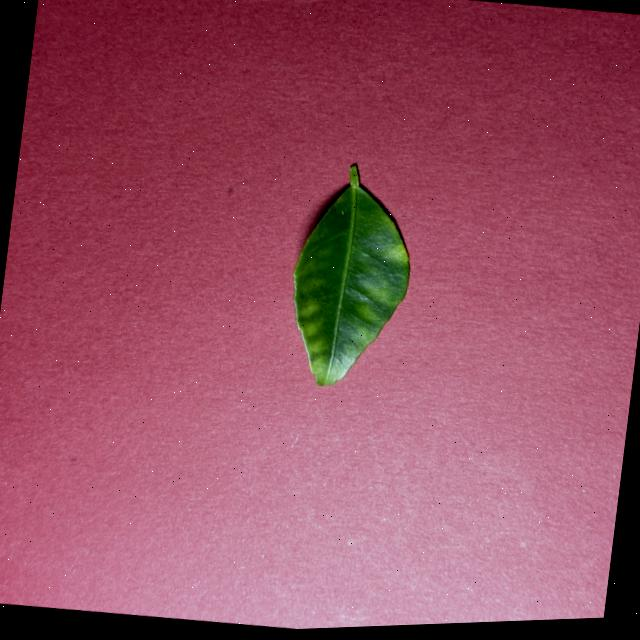greening: (292, 164, 408, 384)
